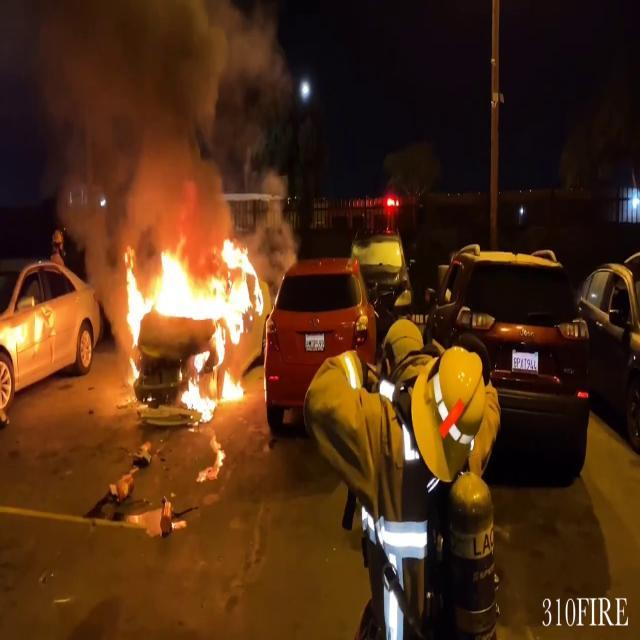Fire: (113, 230, 267, 408), (2, 298, 52, 356)
Smoke: (16, 0, 298, 231)
